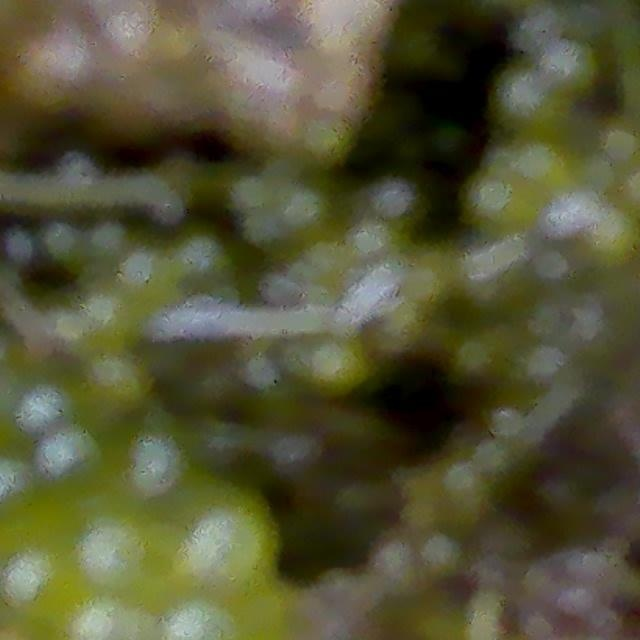SeaGrape: (75, 513, 170, 603), (183, 498, 275, 587), (4, 551, 83, 631), (37, 424, 97, 477)
